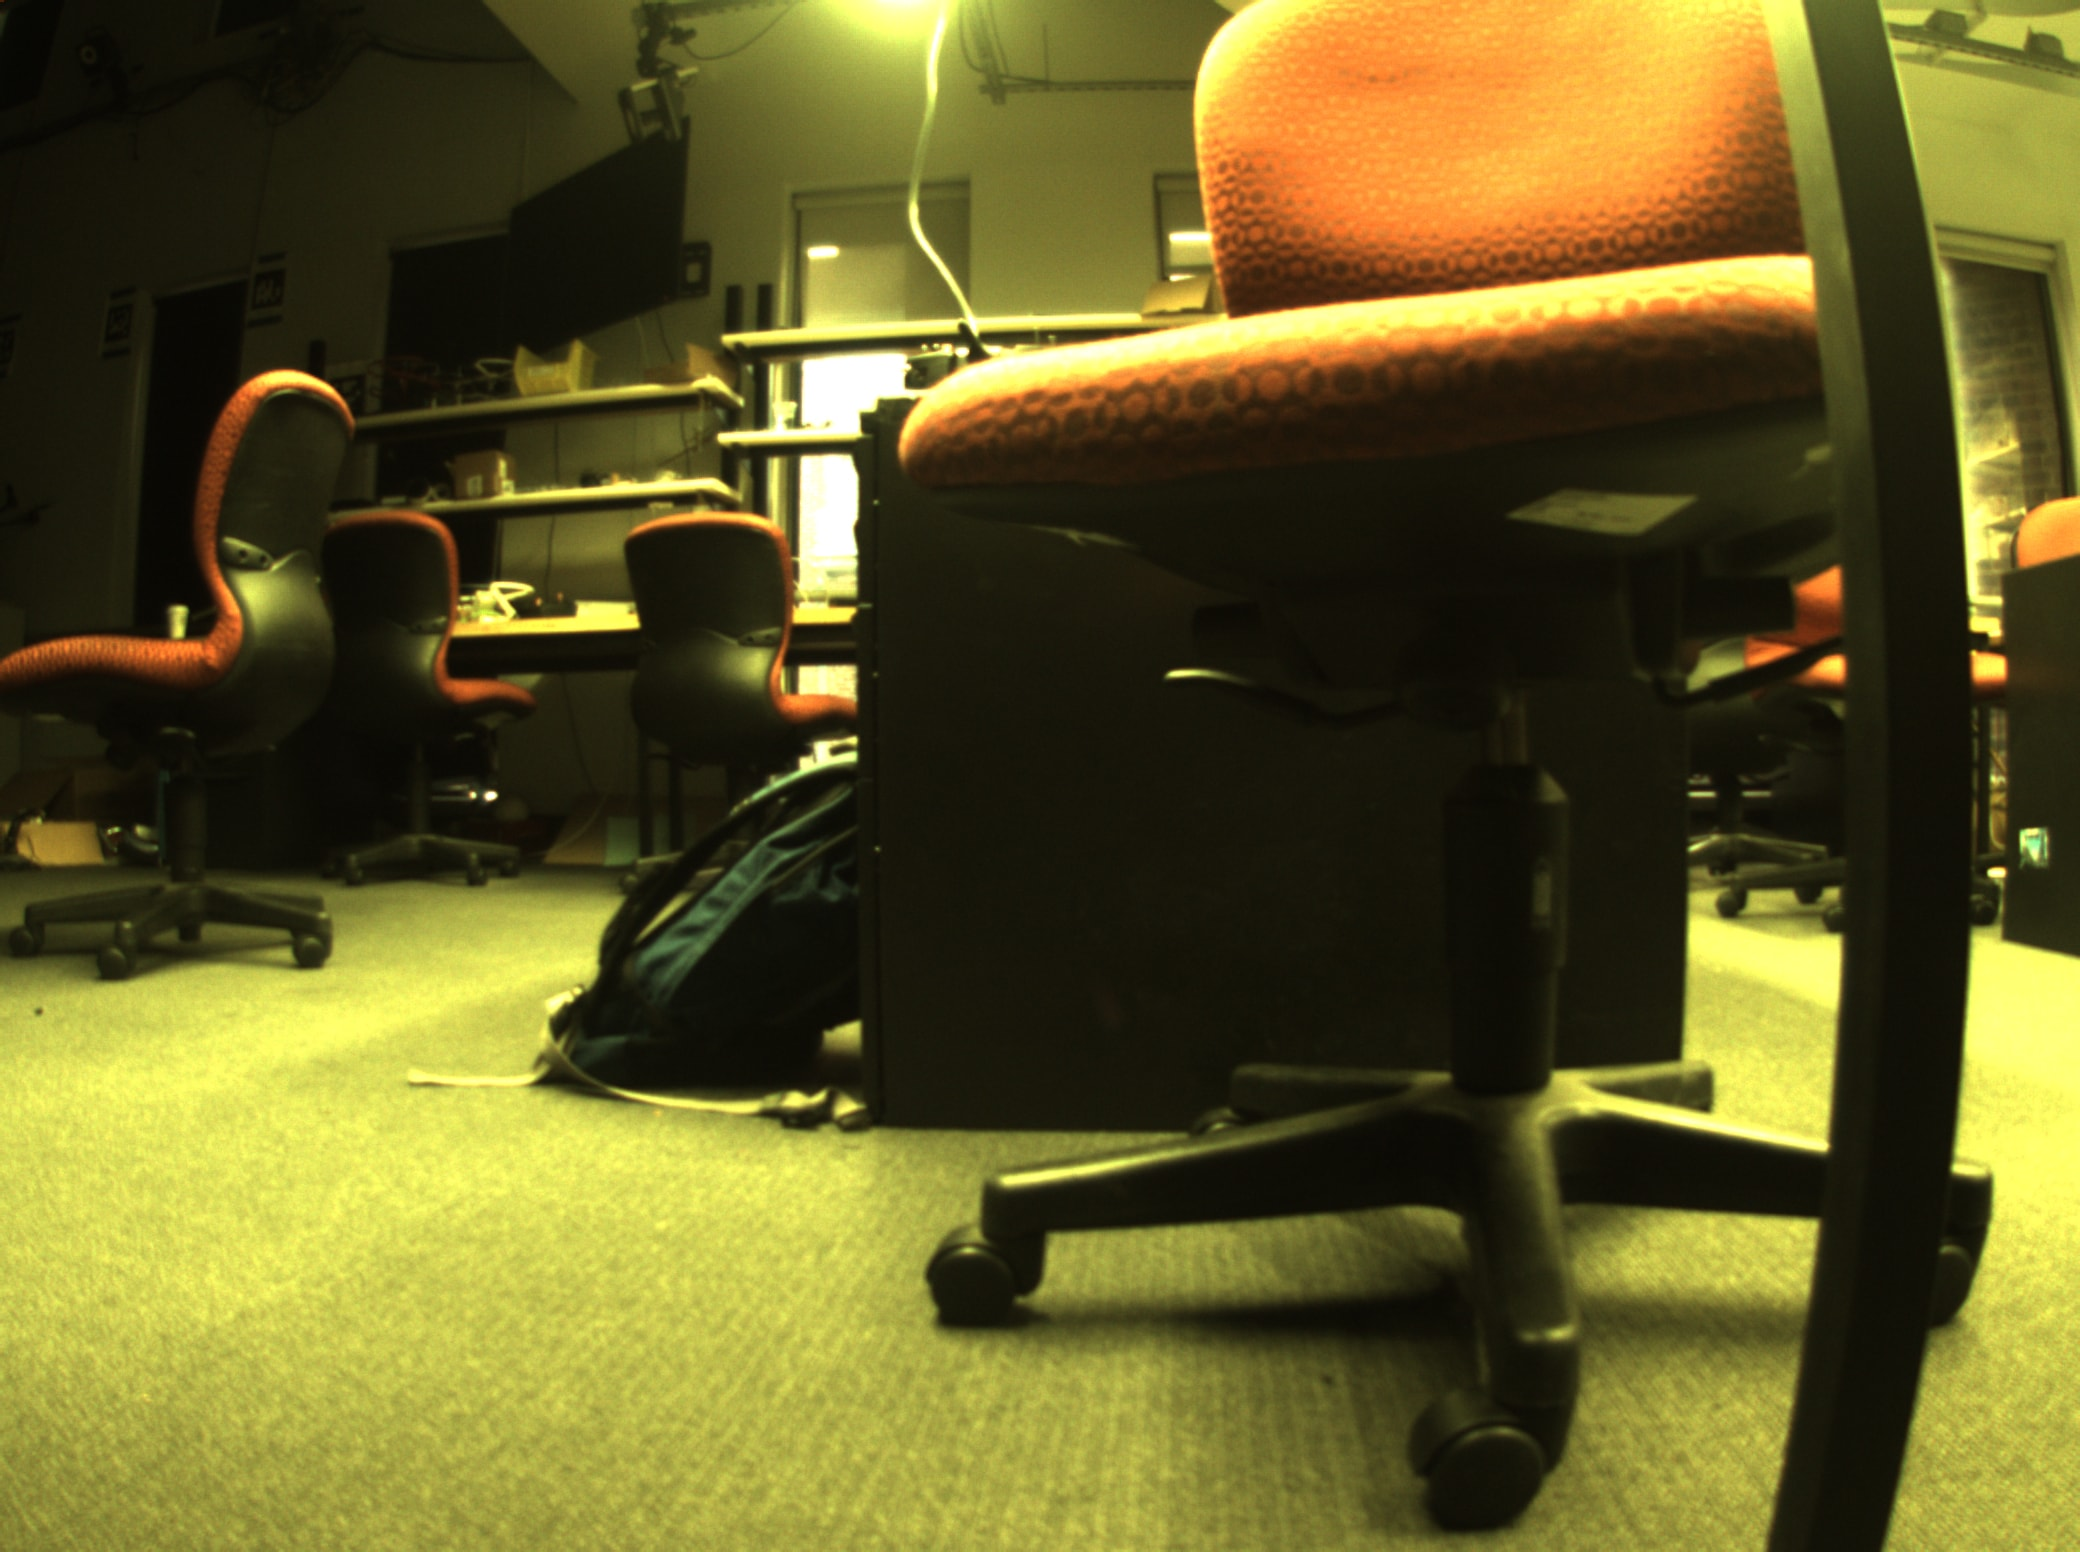chair: (843, 2, 2036, 1519), (10, 342, 367, 985), (290, 489, 559, 919), (602, 489, 862, 911)
